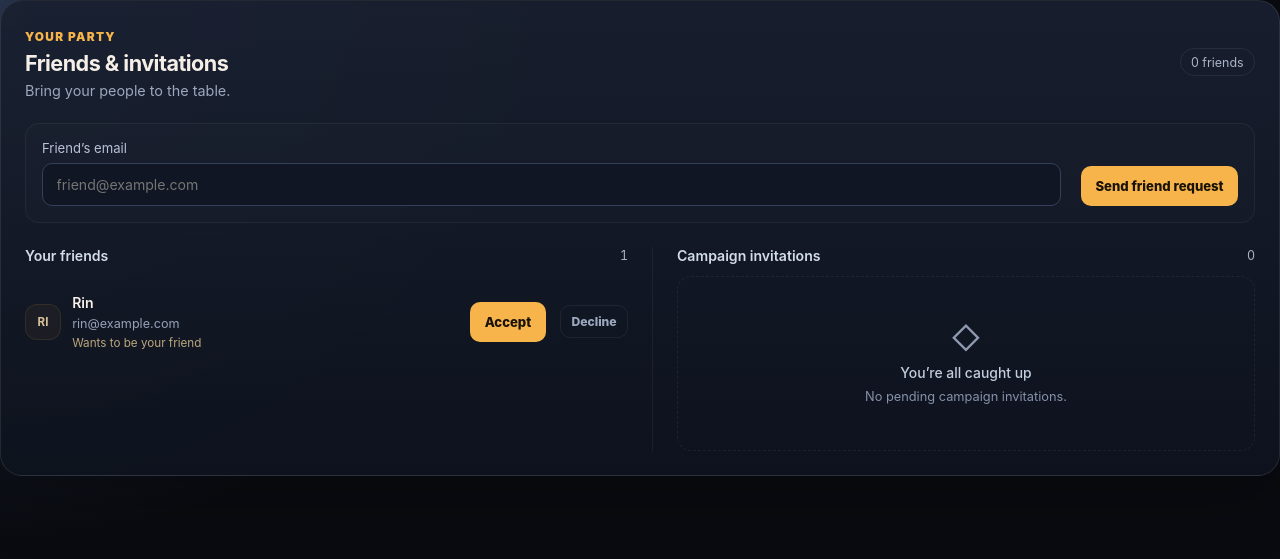
Scenario: removes a pending friendship (incoming=true) and refreshes the list
Step 1. Click the button "Decline" → (594, 322), box left=560, top=305, right=628, bottom=338
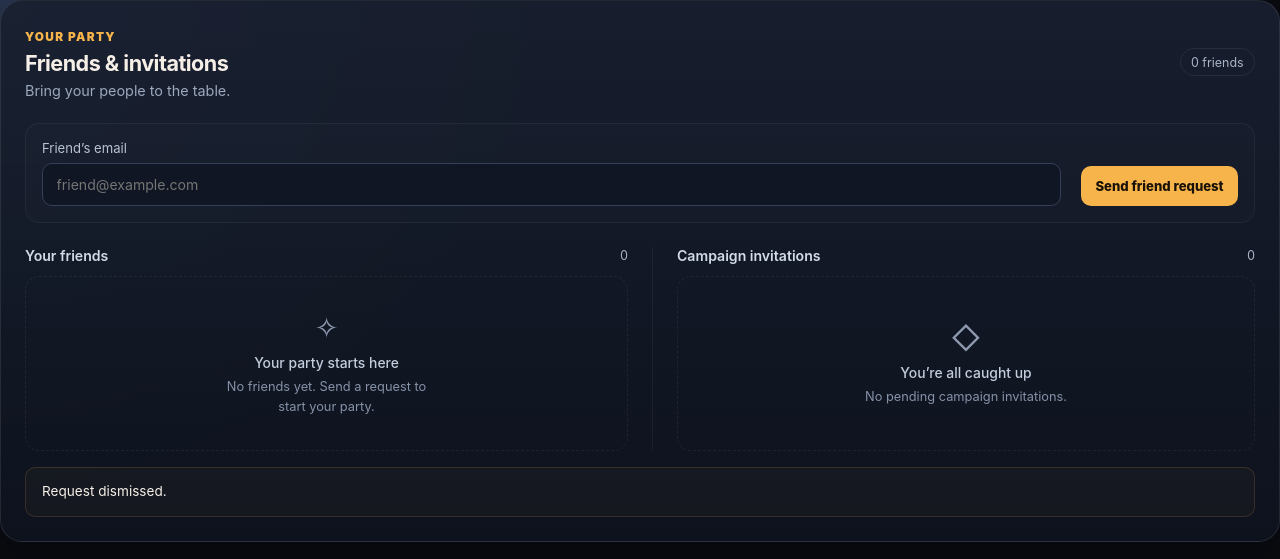
Expected: the text "No friends yet. Send a request to start your party." is shown, left=214, top=377, right=440, bottom=418
Expected: the text "rin@example.com" is gone
